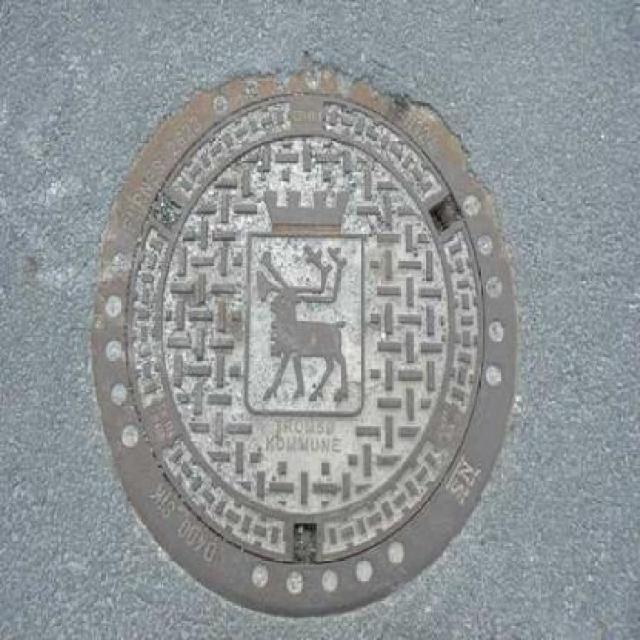Manhole: (82, 52, 527, 625)
